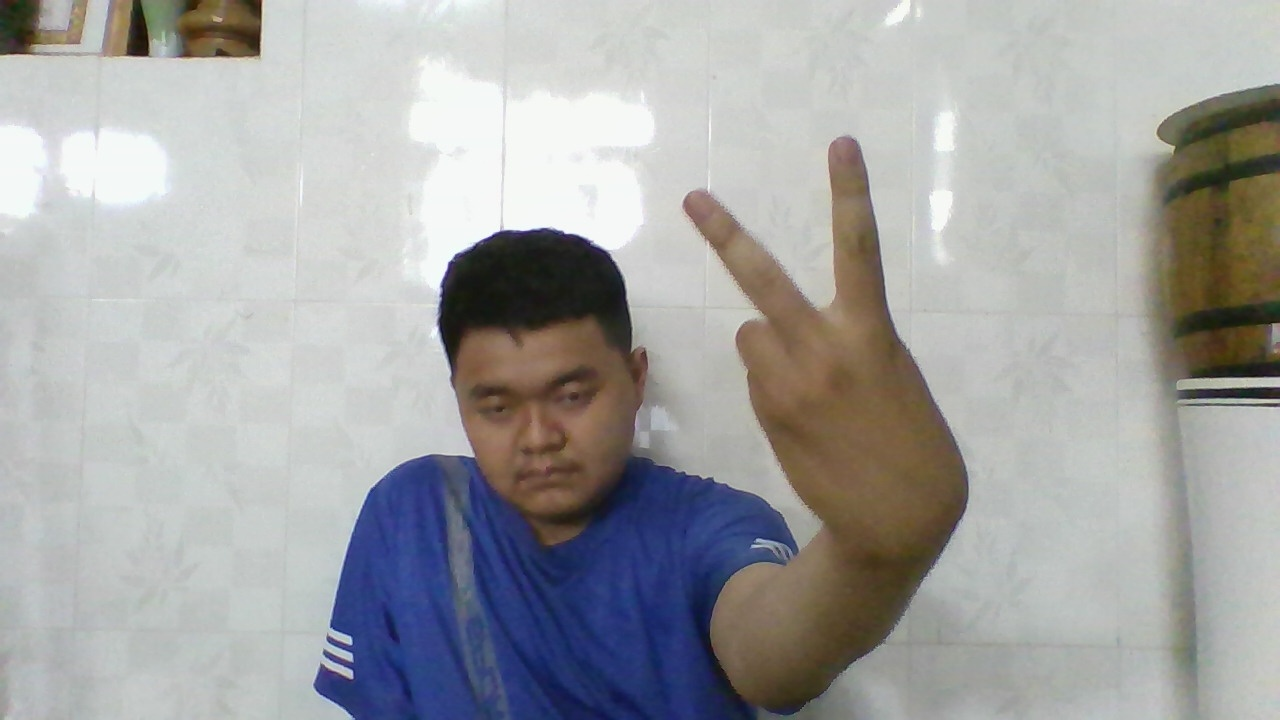V: (676, 135, 948, 545)
